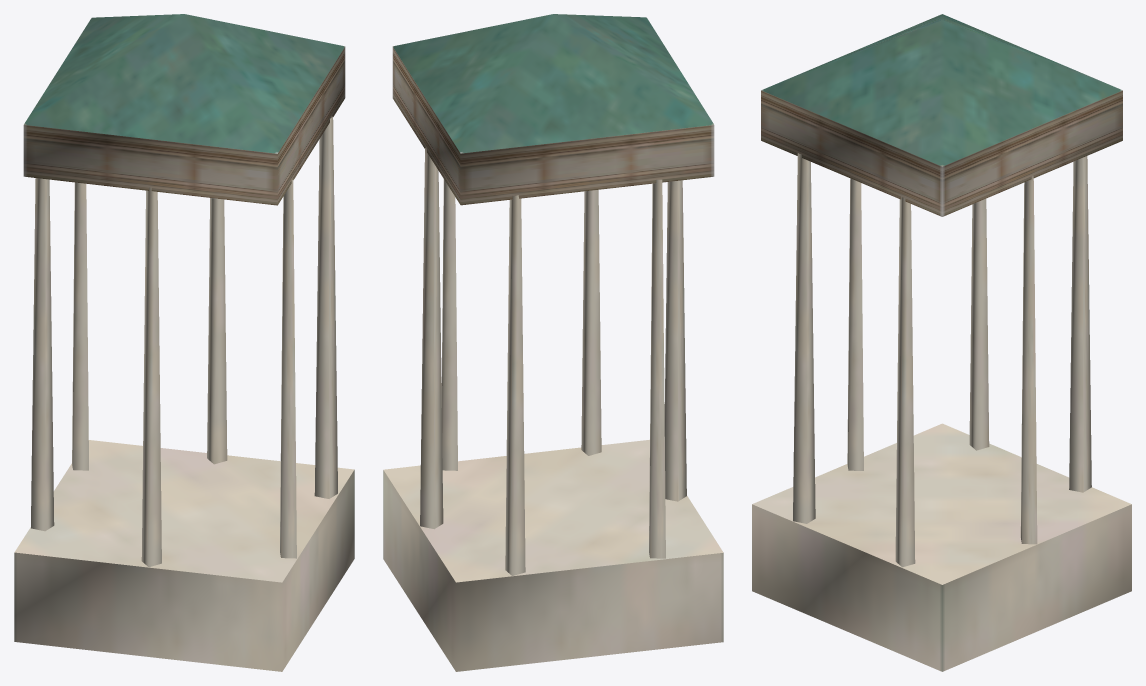
Rendered from thm_nboo_imprv_garden_gazebo_lg_s01_l3.fbx.
3 renders of one model, left to right at view 1: azimuth 30°, elevation 25°; view 2: azimuth 150°, elevation 25°; view 3: azimuth 270°, elevation 25°, orthographic. The views are drawn at different scales.
Visible parts, largest first — view 1: mesh_node; view 2: mesh_node; view 3: mesh_node.
Part boxes in pixels (x1,y1,x2,y2): mesh_node: (14, 14, 354, 671); mesh_node: (383, 14, 723, 671); mesh_node: (752, 14, 1131, 671).
Size of the model in its own units: 8.82 by 14.52 by 8.77.
